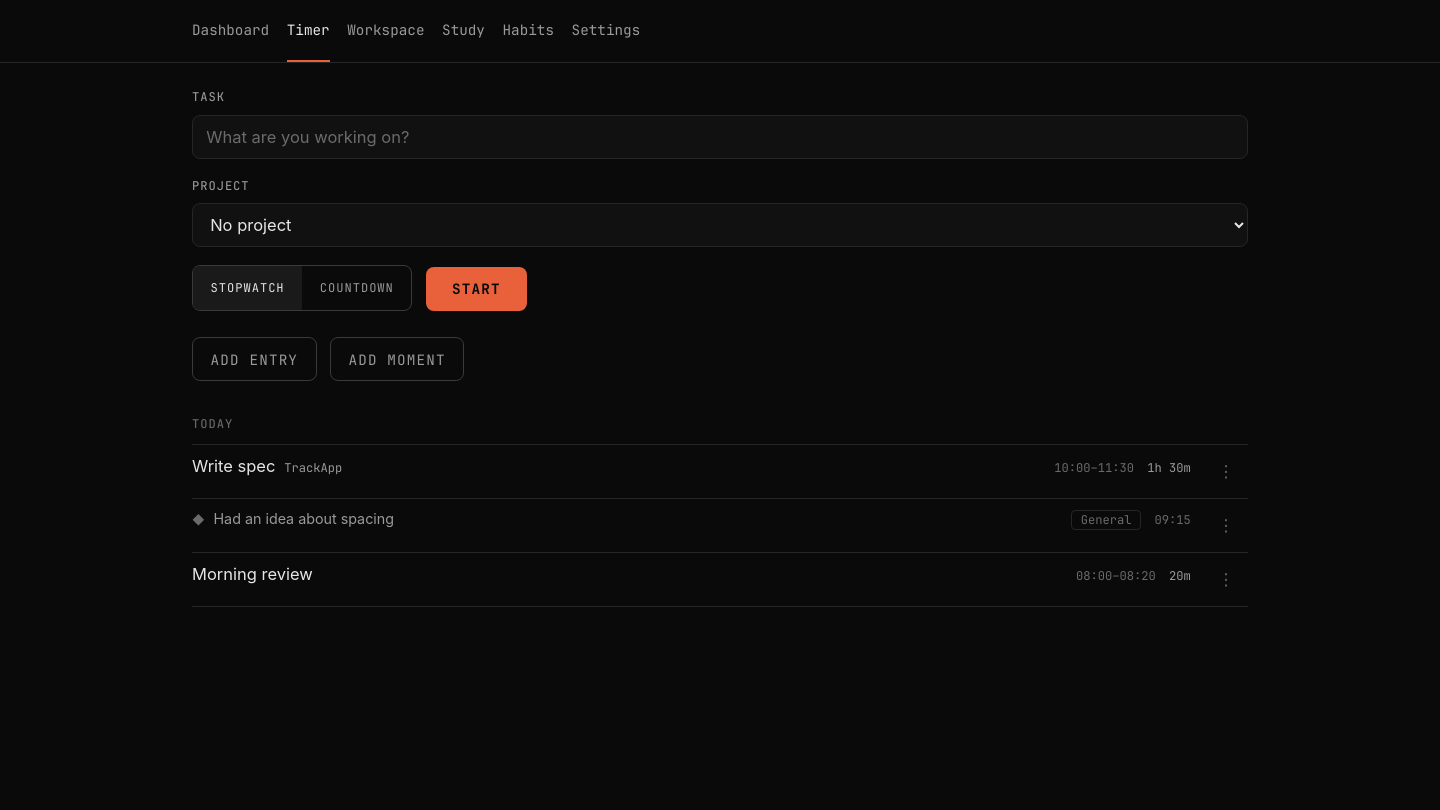
Test: editing times on logged rows › corrects a time entry's start and end, recomputing its duration
The image size is (1440, 810).
Click the button named "More Morning review": [1226, 579] box [1204,562,1248,597]
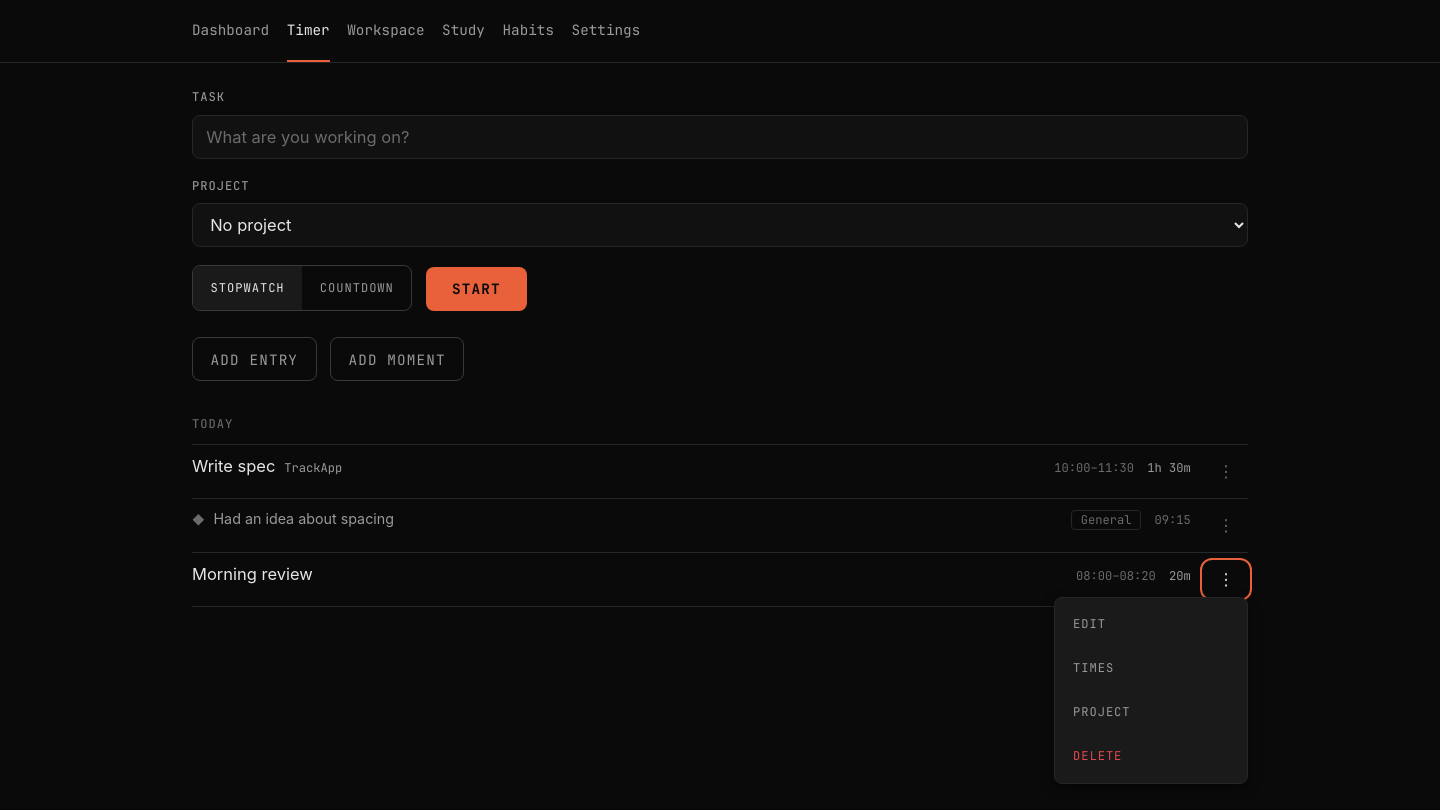
Click the button "Times": [1151, 668] box [1060,646,1243,690]
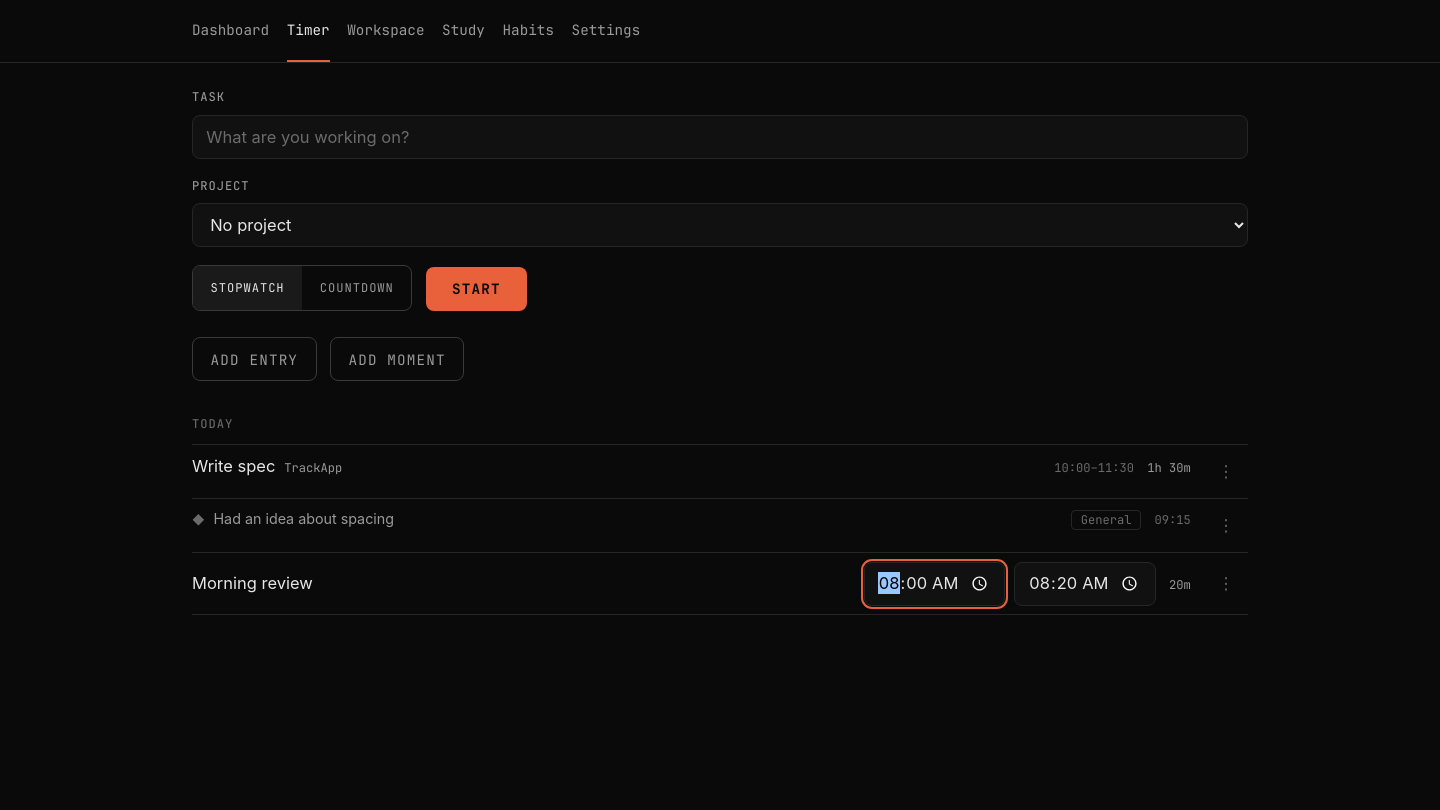
Replace the text in the time field named "start time" with "08:15": [935, 584] box [864,562,1005,606]
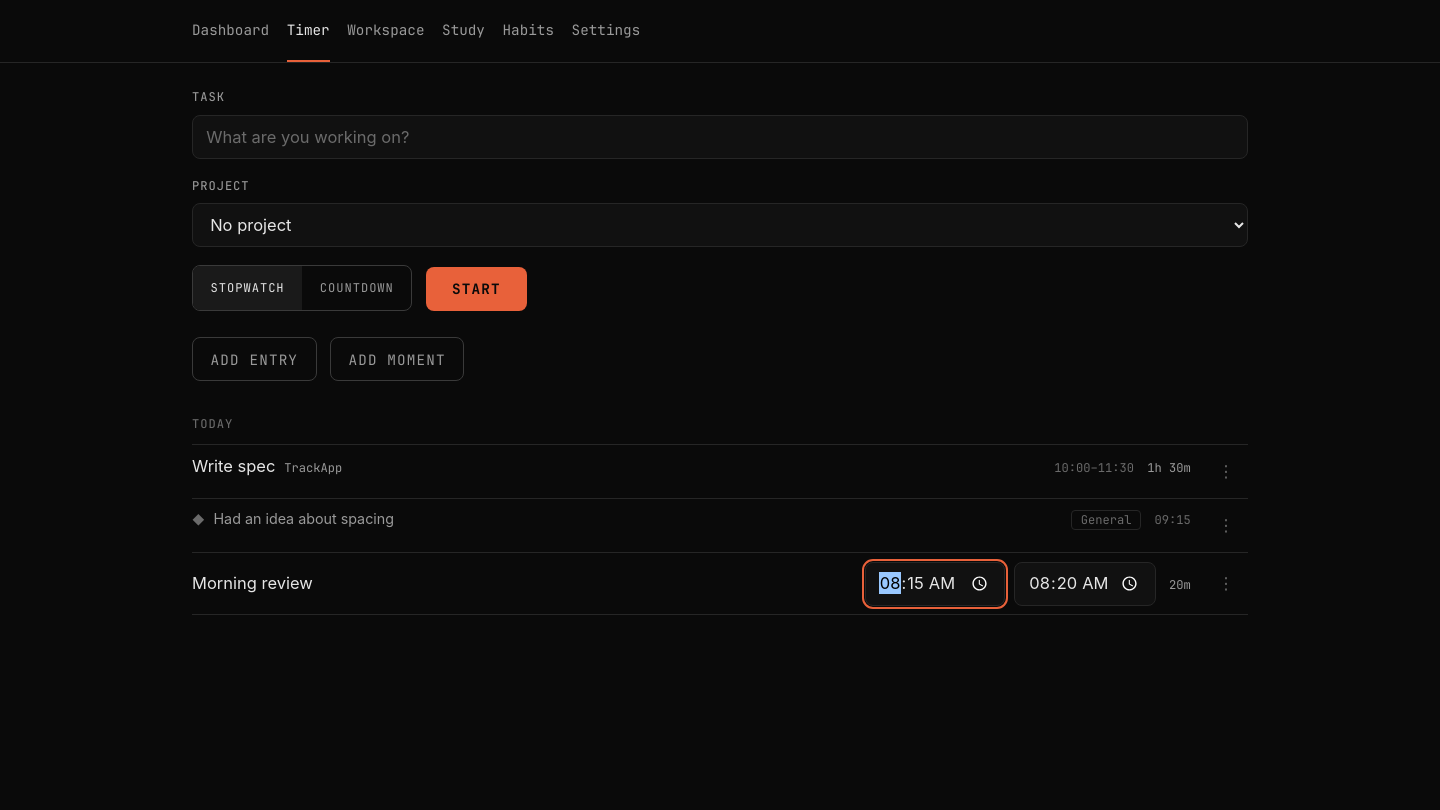
Replace the text in the time field named "end time" with "09:00": [1085, 584] box [1014,562,1156,606]
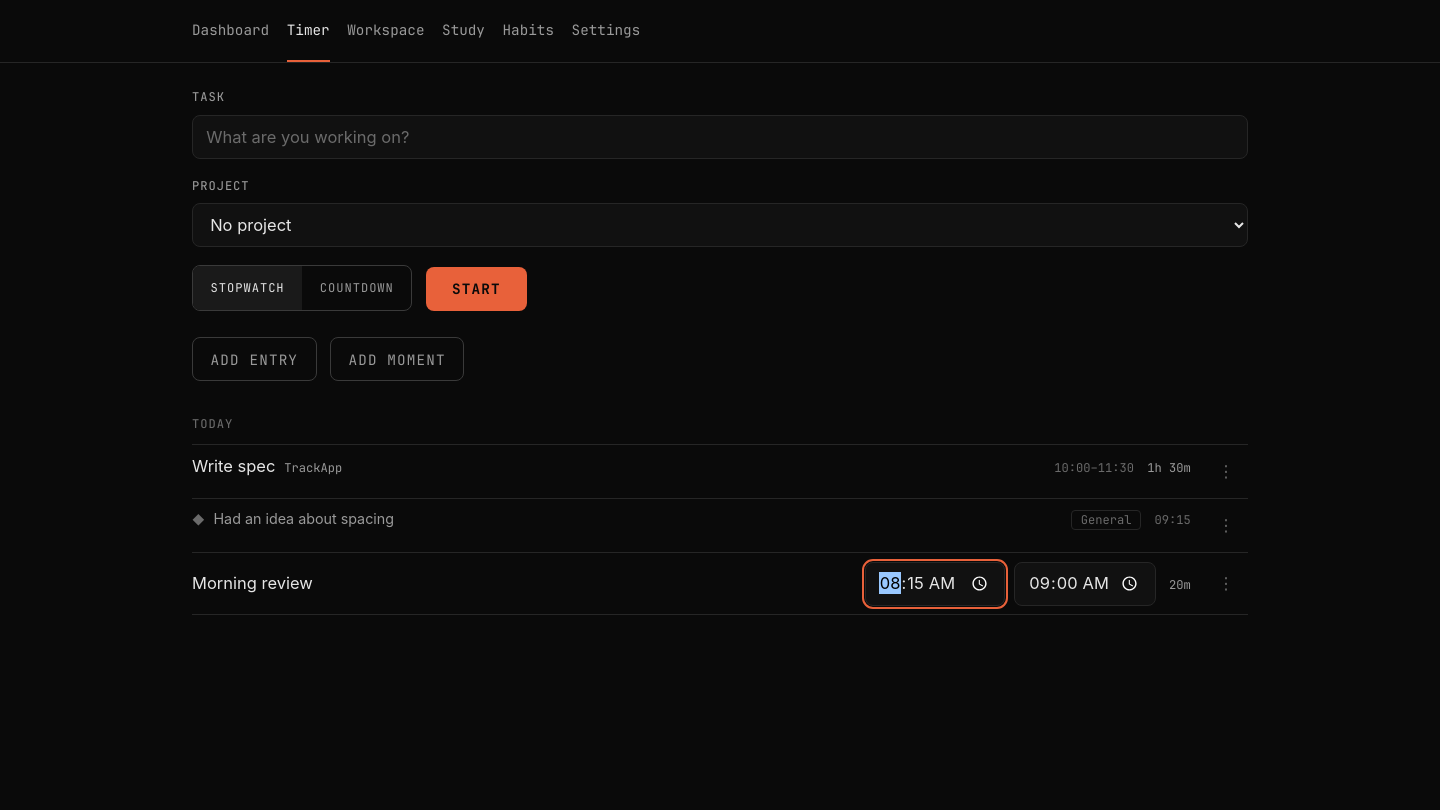
Leave the time field named "end time", box [1014,562,1156,606]
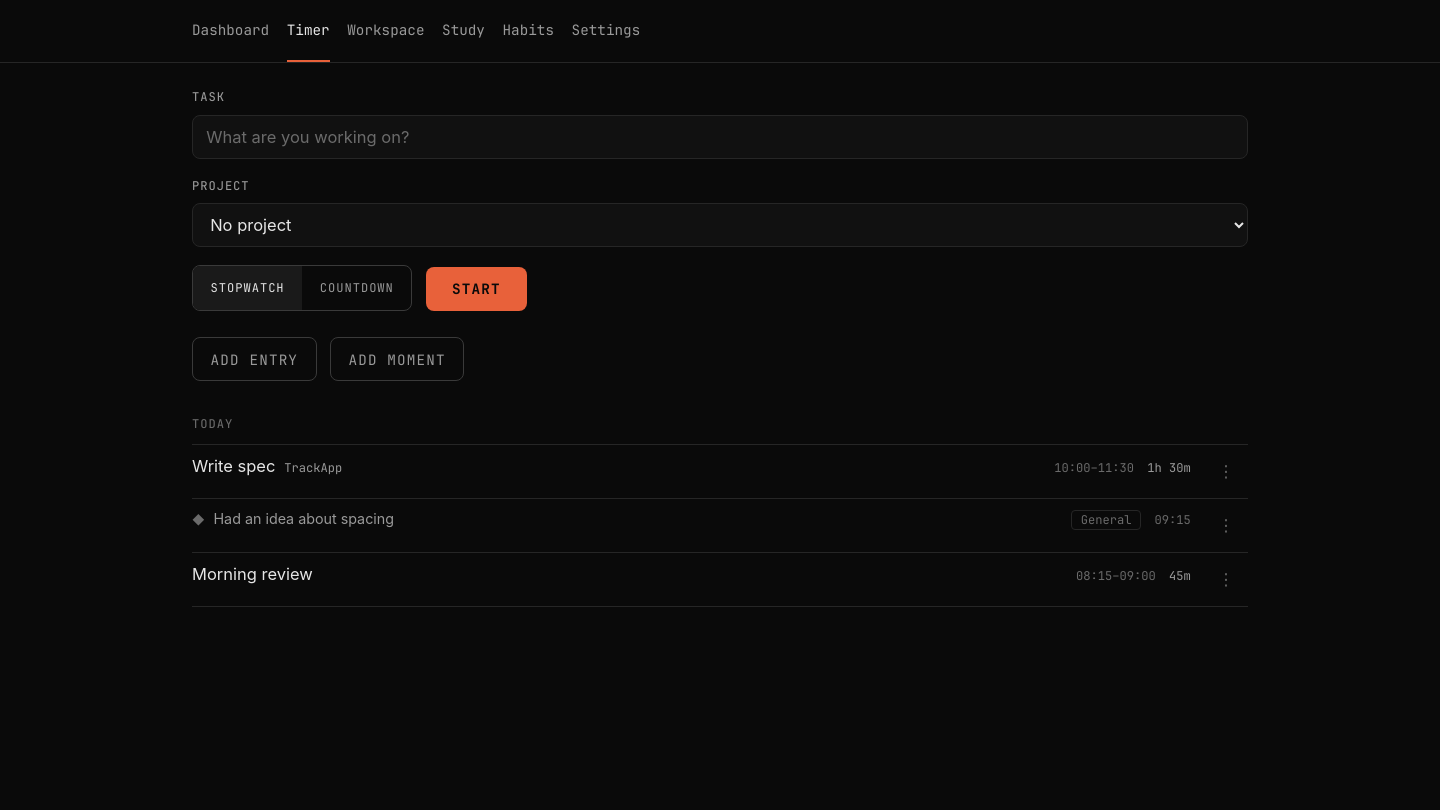
Now the text "45m" is shown, box [1169,567,1191,585]
